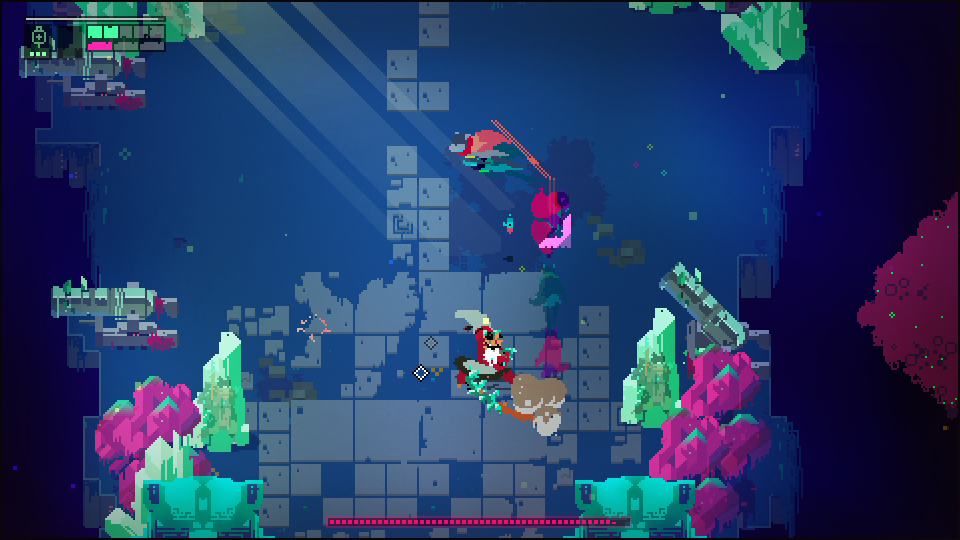hanged_man: (451, 307, 535, 417)
player: (444, 128, 513, 169)
